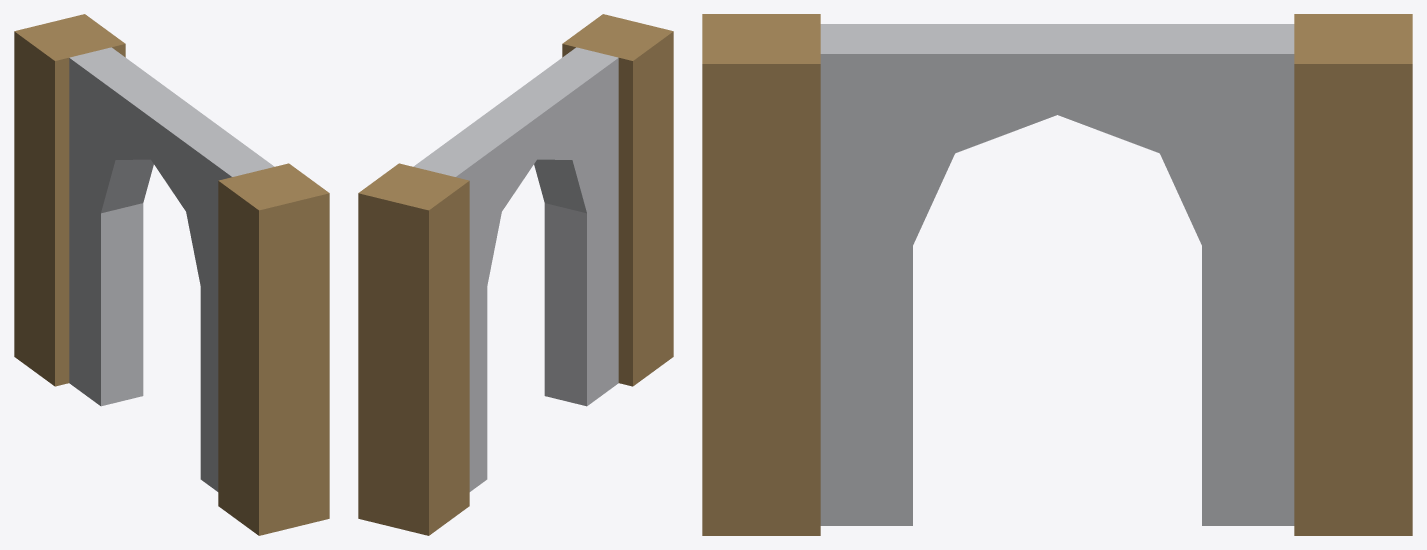
Rendered from Wood_Door_Round_01.fbx.
The picture shows the model from 3 angles, left to right: view 1: azimuth 30°, elevation 25°; view 2: azimuth 150°, elevation 25°; view 3: azimuth 270°, elevation 25°; orthographic projection. The views are drawn at different scales.
Parts seen in each view (by area): view 1: Mesh1_Wood_Door_Round Model; view 2: Mesh1_Wood_Door_Round Model; view 3: Mesh1_Wood_Door_Round Model.
Part boxes in pixels (x1=…): Mesh1_Wood_Door_Round Model: x1=14, y1=14, x2=329, y2=535; Mesh1_Wood_Door_Round Model: x1=358, y1=14, x2=673, y2=535; Mesh1_Wood_Door_Round Model: x1=702, y1=14, x2=1412, y2=535.
Bounding box in the file's own units: 0.5 × 2.2 × 3.
